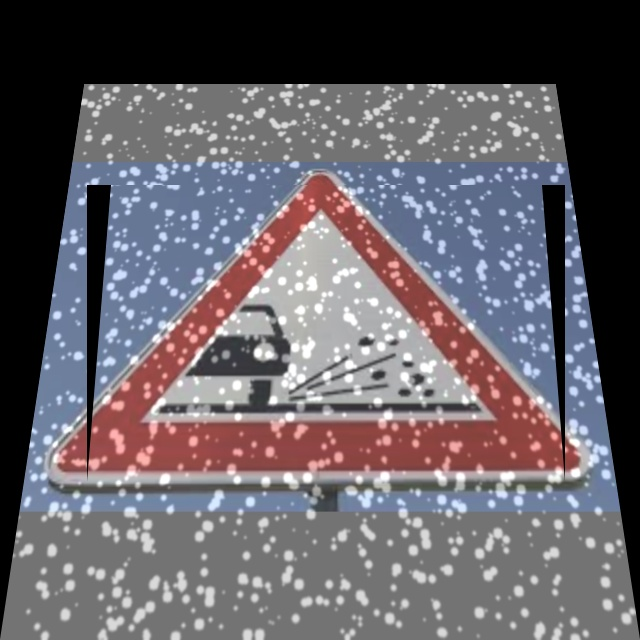Loose_Gravel: (87, 185, 565, 482)
